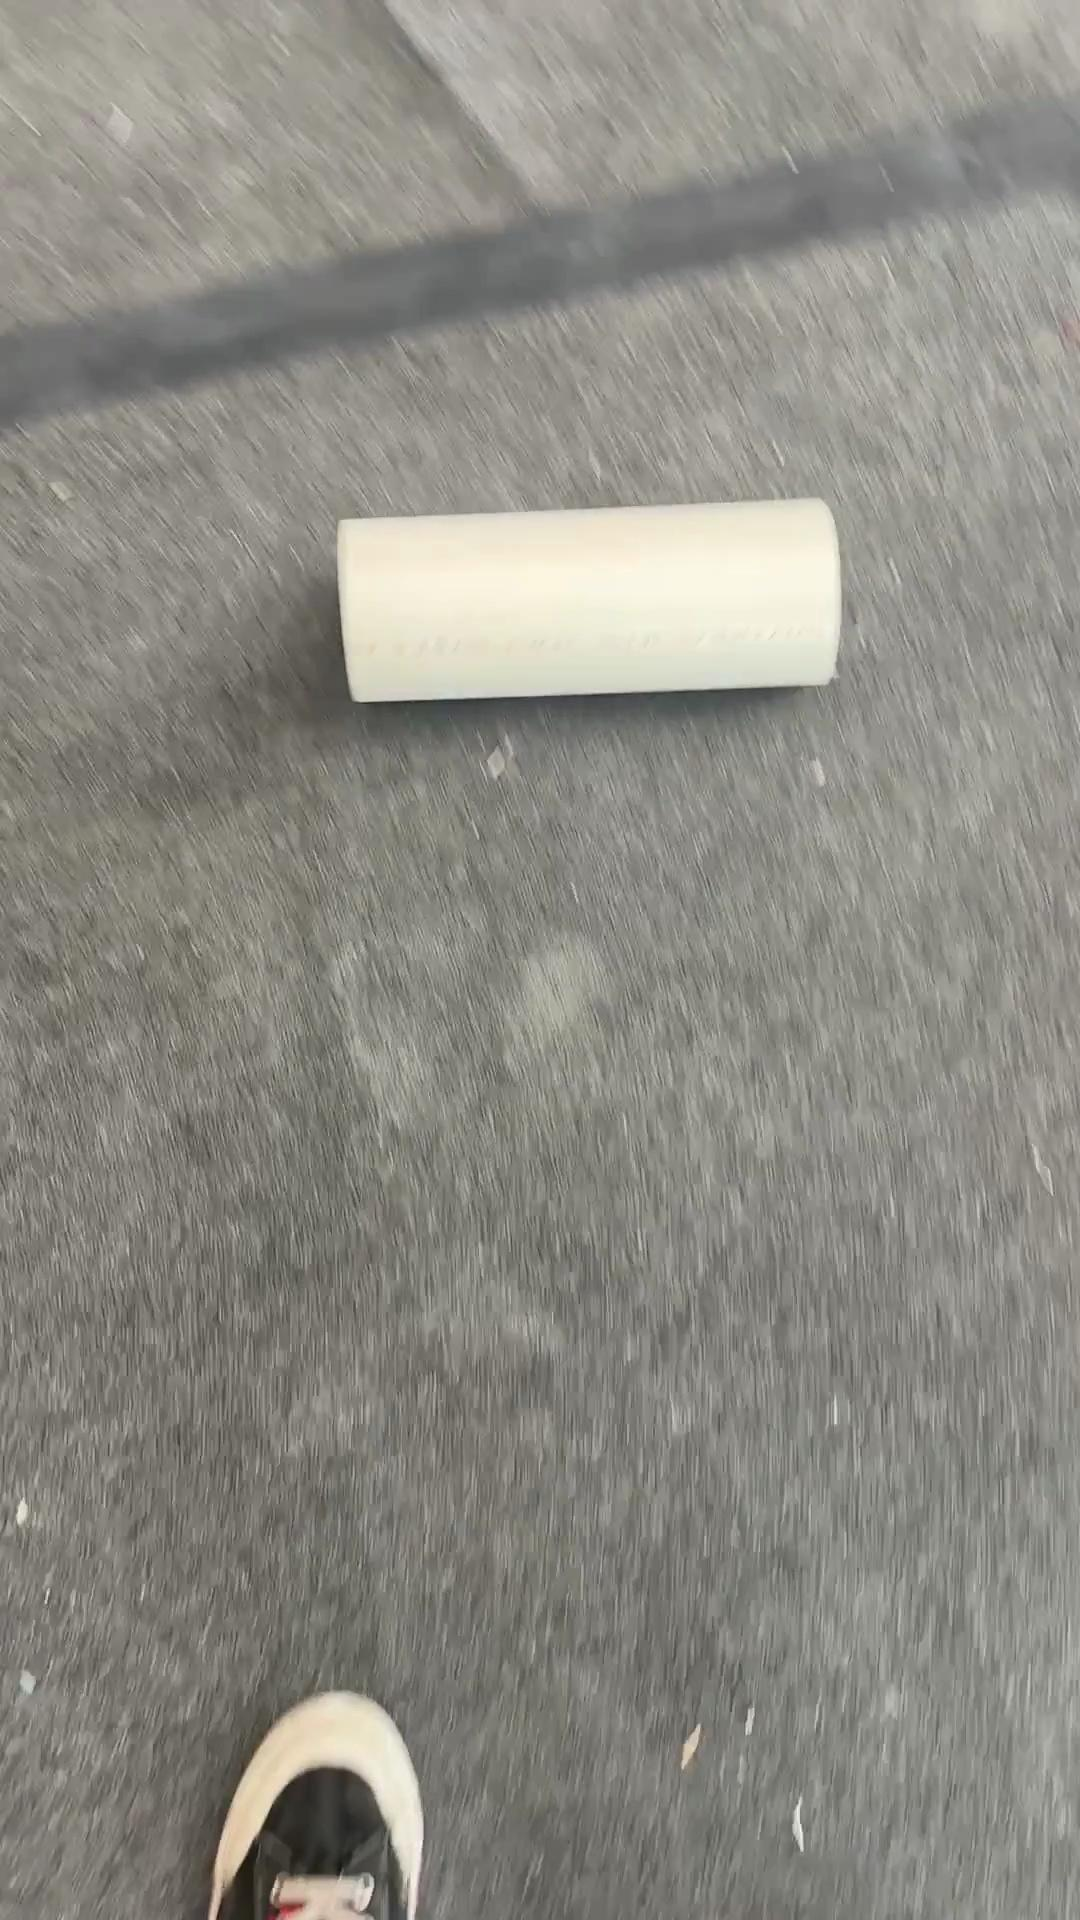CORAL: (334, 493, 843, 704)
